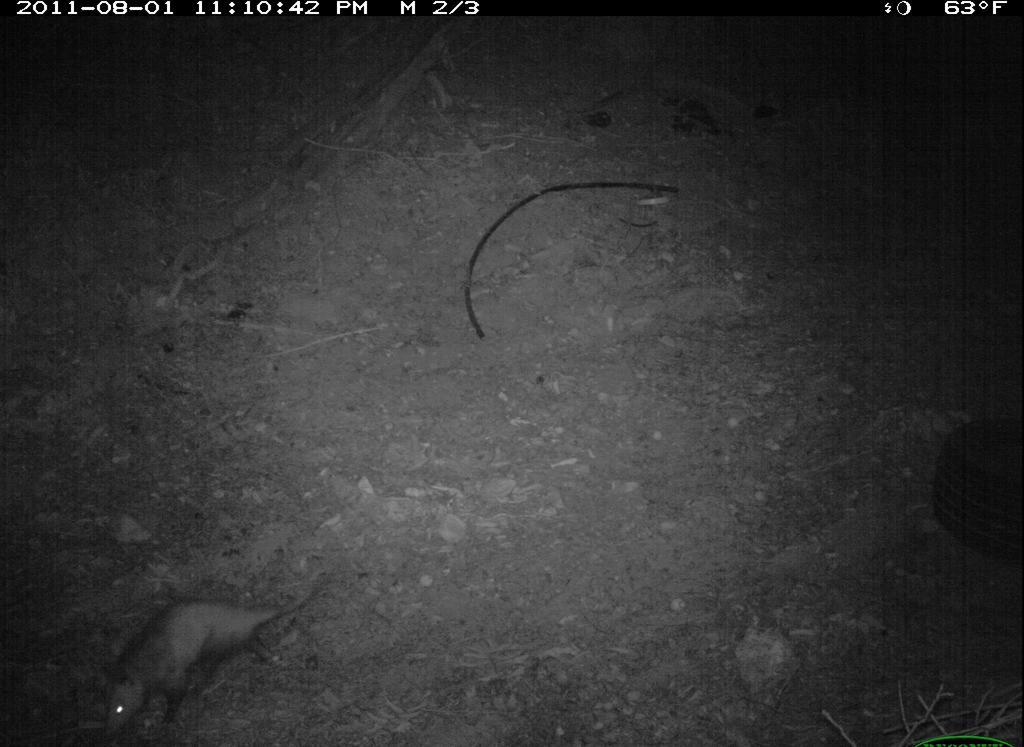opossum: (89, 592, 322, 742)
